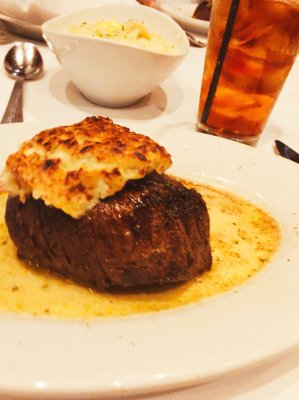pizza: (194, 0, 299, 147)
salad: (0, 42, 45, 125)
sandwich: (273, 139, 299, 164)
sushi: (41, 1, 190, 108)
